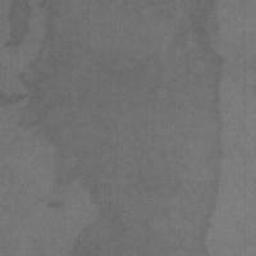Water spot: (0, 0, 225, 256), (4, 0, 32, 52)
